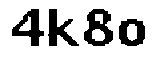4: (6, 6, 46, 47)
8: (82, 4, 116, 53)
k: (46, 4, 83, 54)
o: (116, 14, 149, 49)
